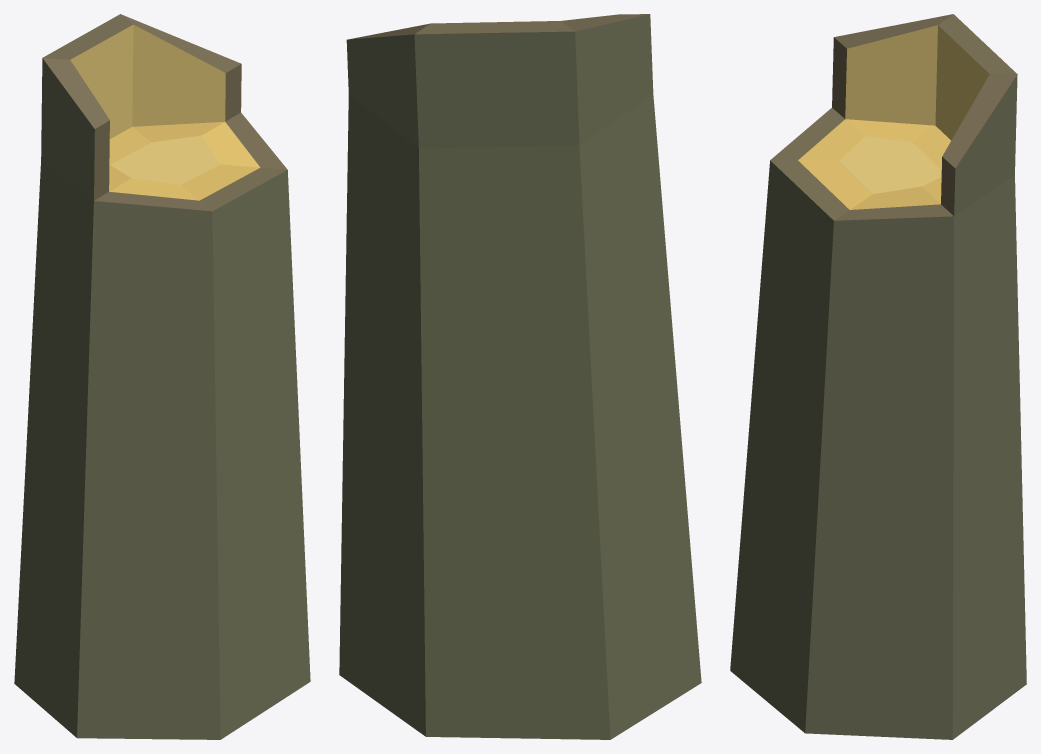
The model's file is PoplarStump.fbx.
3 views of the same model, side by side, from view 1: azimuth 30°, elevation 25°; view 2: azimuth 150°, elevation 25°; view 3: azimuth 270°, elevation 25° (orthographic). The views are drawn at different scales.
Parts seen in each view (by area): view 1: PoplarStump; view 2: PoplarStump; view 3: PoplarStump.
Boxes of the visible parts, left/top/right/bottom form: PoplarStump: left=14, top=14, right=310, bottom=739; PoplarStump: left=339, top=14, right=701, bottom=739; PoplarStump: left=730, top=14, right=1026, bottom=739.
Bounding box in the file's own units: 0.3889 × 0.9318 × 0.4018.
